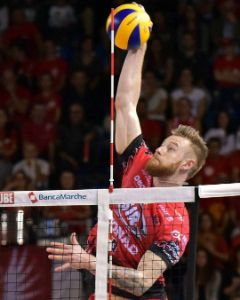voleibol: (106, 4, 152, 50)
